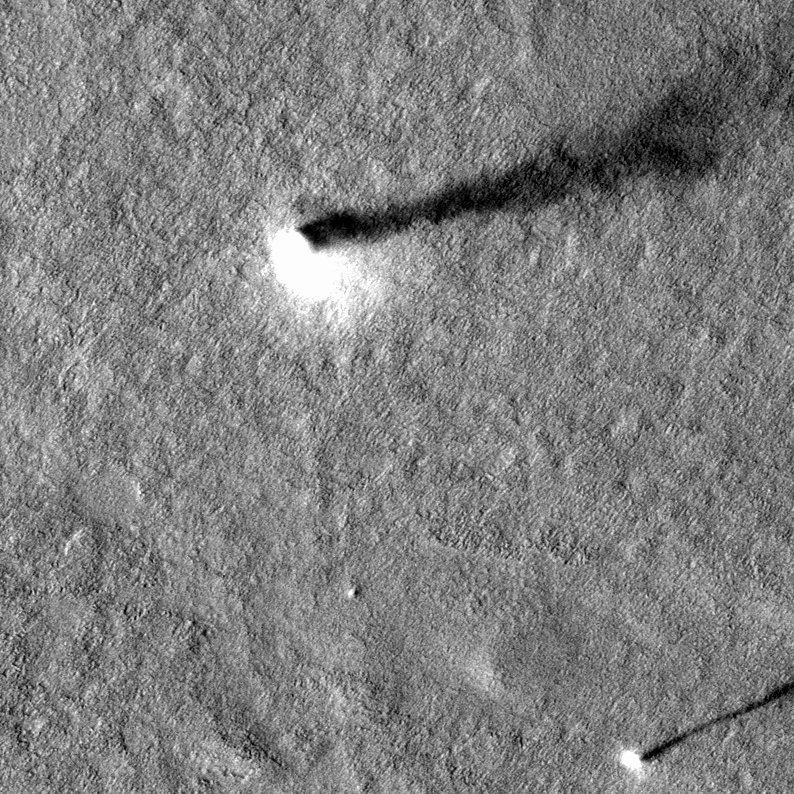dust_devil: (261, 74, 728, 309), (615, 676, 794, 777)
